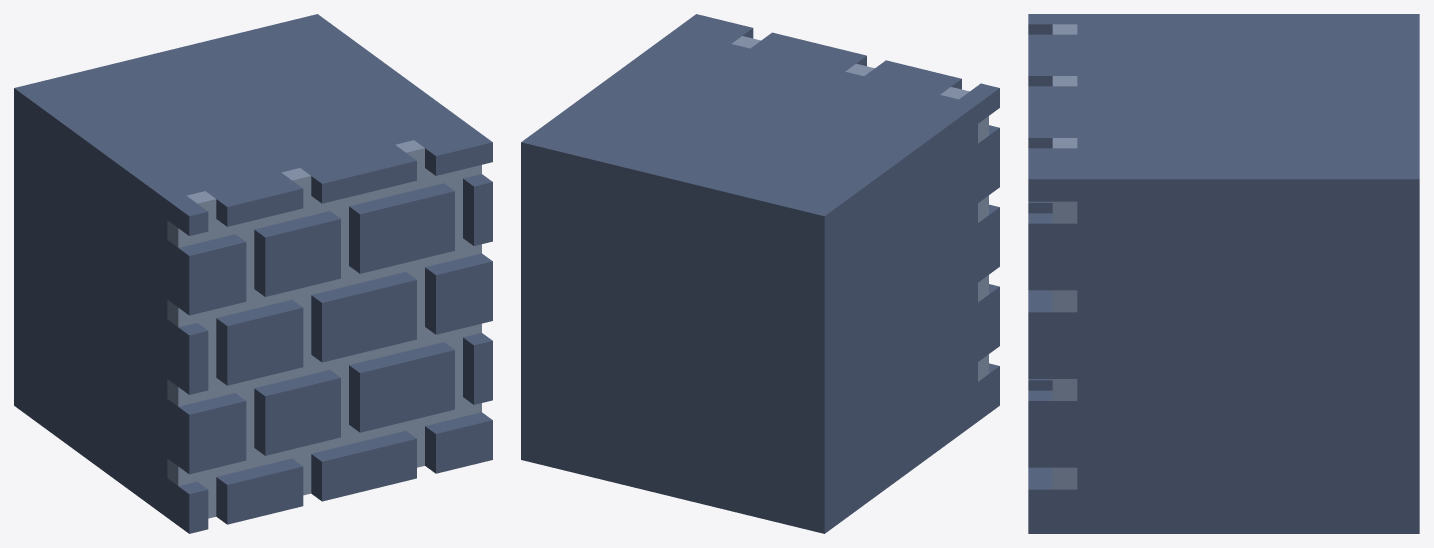
Rendered from wall_16x16x16.obj.
3 views of the same model, side by side, from view 1: azimuth 30°, elevation 25°; view 2: azimuth 150°, elevation 25°; view 3: azimuth 270°, elevation 25° (orthographic). The views are drawn at different scales.
Size of the model in its own units: 1.6 by 1.6 by 1.6.
Materials: 1 (1 with a texture image).
